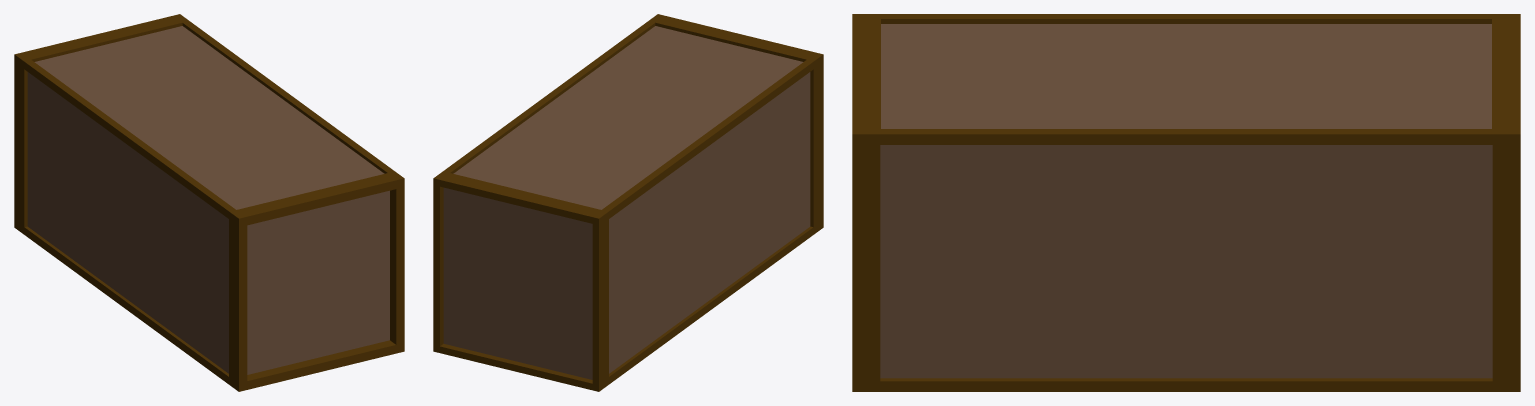
3 renders of one model, left to right at view 1: azimuth 30°, elevation 25°; view 2: azimuth 150°, elevation 25°; view 3: azimuth 270°, elevation 25°, orthographic. The views are drawn at different scales.
Parts seen in each view (by area): view 1: pCube213; view 2: pCube213; view 3: pCube213.
Part boxes in pixels (<box>): pCube213: <box>14,14,404,391</box>; pCube213: <box>433,14,823,391</box>; pCube213: <box>852,14,1520,391</box>.
Bounding box in the file's own units: 1.55 × 1.55 × 3.65.
